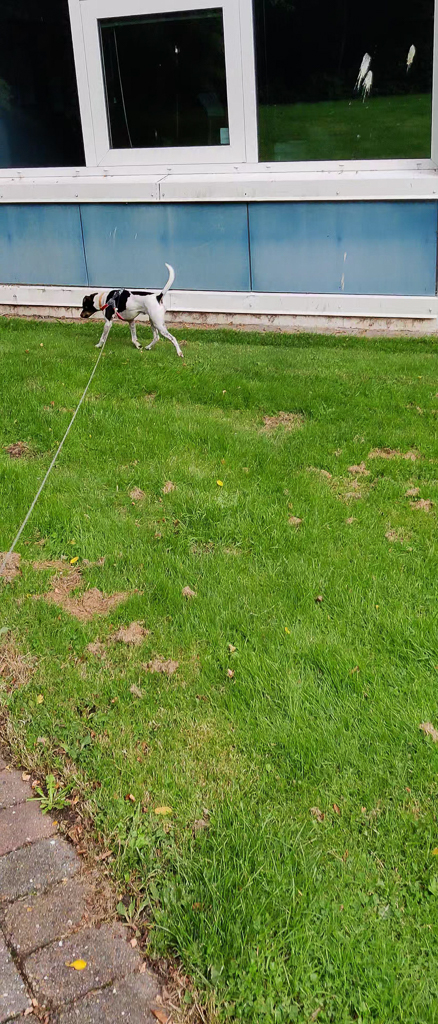Dog: (74, 249, 190, 364)
